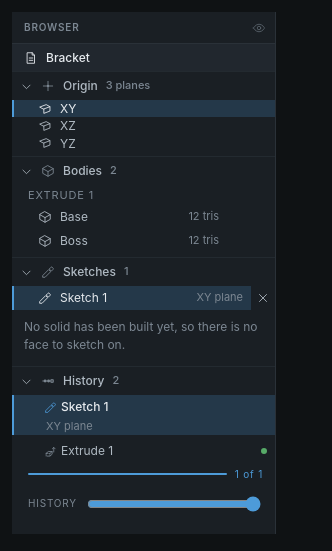
Test: the model browser › collapses a section, and takes its contents out of the tree with it
This screenshot has width=332, height=551.
Click the button "Origin 3 planes" at (142, 86), box [12, 72, 271, 100]
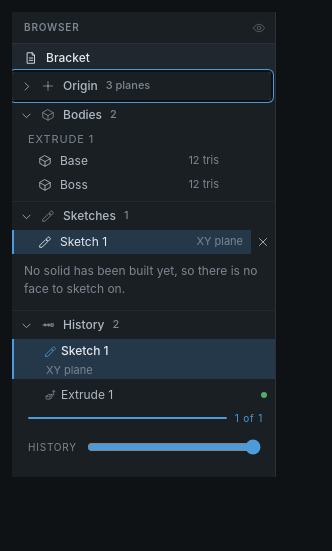
expect the button "XZ" is gone: met
